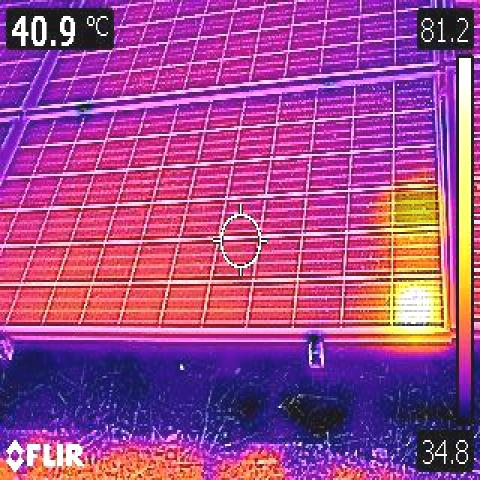fault: (395, 283, 439, 327), (396, 191, 437, 223)
